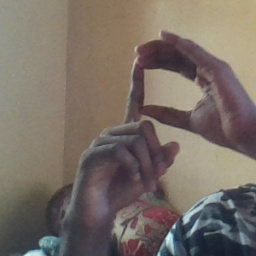P: (88, 28, 241, 185)
